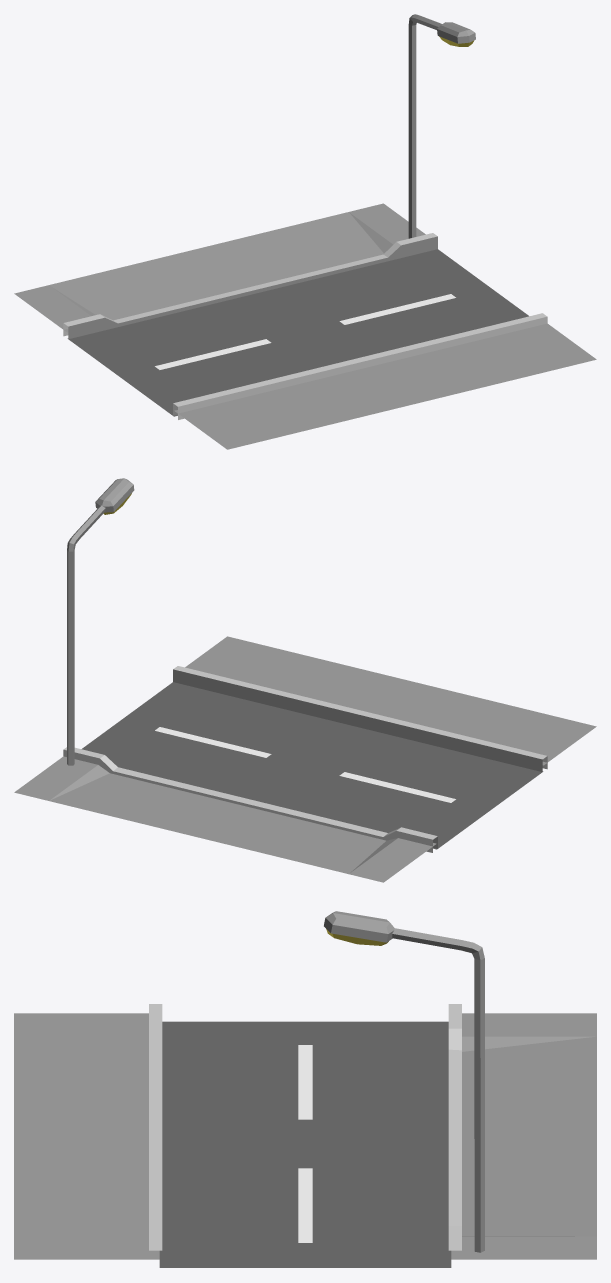
Rendered from road_tile_1x1_008.fbx.
The picture shows the model from 3 angles, top to bottom: view 1: azimuth 30°, elevation 25°; view 2: azimuth 150°, elevation 25°; view 3: azimuth 270°, elevation 25°; orthographic projection. The views are drawn at different scales.
Visible parts, largest first — view 1: road_tile_1x1_008; view 2: road_tile_1x1_008; view 3: road_tile_1x1_008.
Boxes of the visible parts, x1=… form: road_tile_1x1_008: x1=14, y1=14, x2=596, y2=449; road_tile_1x1_008: x1=14, y1=478, x2=596, y2=882; road_tile_1x1_008: x1=14, y1=911, x2=596, y2=1267.
Bounding box in the file's own units: 800 × 525 × 800.
